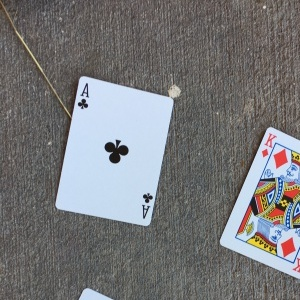card: (55, 76, 174, 224)
